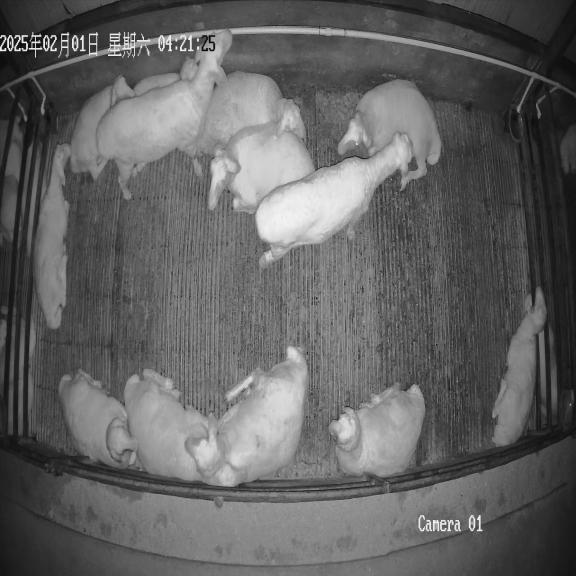lying: (185, 346, 308, 482), (124, 369, 243, 486), (337, 79, 441, 190), (194, 71, 305, 161), (208, 121, 315, 214), (329, 384, 425, 478), (492, 287, 547, 446), (58, 370, 137, 468), (70, 75, 135, 179), (34, 144, 70, 330), (133, 57, 198, 96)
stand: (96, 30, 232, 199), (255, 133, 413, 267)
